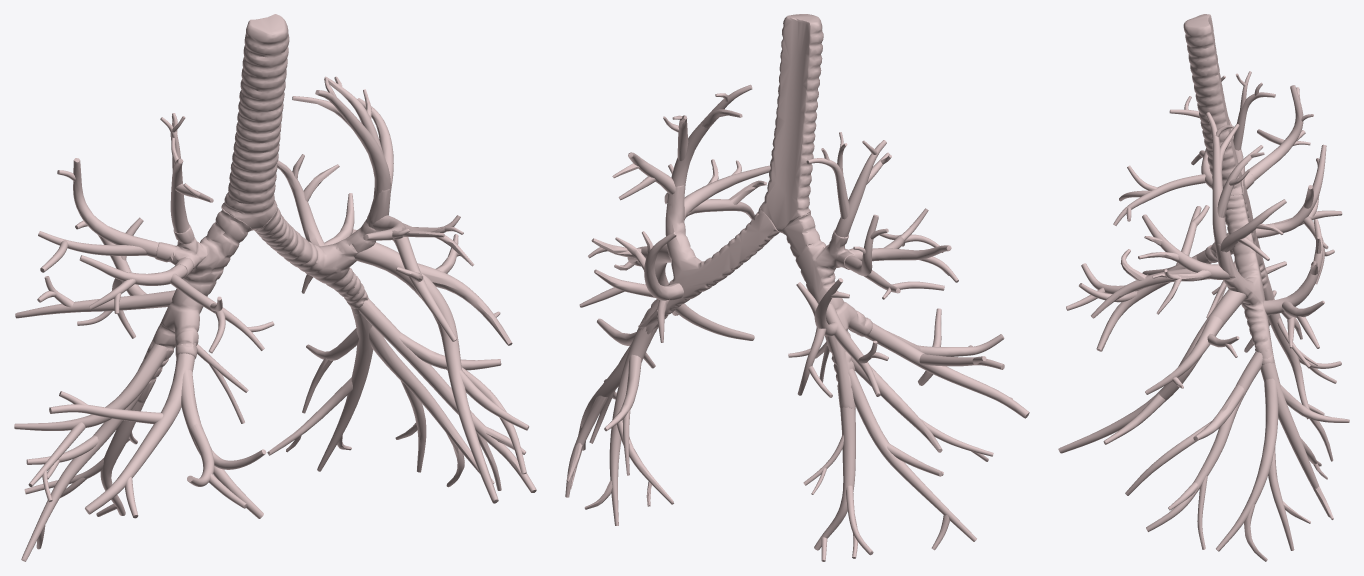
Rendered from respiratory.glb.
3 views of the same model, side by side, from view 1: azimuth 30°, elevation 25°; view 2: azimuth 150°, elevation 25°; view 3: azimuth 270°, elevation 25° (orthographic). The views are drawn at different scales.
Visible parts, largest first — view 1: trachea, right_main_bronchus_proper, left_main_bronchus, inferior_lingular_bronchial_tree (×2), lateral_segmental_bronchial_tree (×2), left_lateral_basal_segmental_bronchial_tree (×2), left_posterior_basal_segmental_bronchial_tree (×2), right_anterior_basal_segmental_bronchial_tree (×2), left_medial_basal_segmental_bronchial_tree, right_posterior_segmental_bronchial_tree (×2), left_apical_segmental_bronchial_tree (×2), medial_segmental_bronchial_tree (×2) (+10 smaller); view 2: trachea, left_main_bronchus, right_main_bronchus_proper, left_posterior_basal_segmental_bronchial_tree (×3), lateral_segmental_bronchial_tree (×2), right_lateral_basal_segmental_bronchial_tree, left_anterior_segmental_bronchial_tree (×2), right_apical_segmental_bronchial_tree (×2), left_superior_segmental_bronchial_tree (×2), right_superior_segmental_bronchial_tree (×2), right_posterior_basal_segmental_bronchial_tree, left_lateral_basal_segmental_bronchial_tree (×2) (+7 smaller); view 3: trachea, left_main_bronchus, inferior_lingular_bronchial_tree (×2), left_lateral_basal_segmental_bronchial_tree (×2), left_posterior_basal_segmental_bronchial_tree (×2), left_anterior_segmental_bronchial_tree (×2), left_anterior_basal_segmental_bronchial_tree (×3), left_apical_segmental_bronchial_tree (×2), left_medial_basal_segmental_bronchial_tree, left_superior_segmental_bronchial_tree (×2), right_superior_segmental_bronchial_tree (×2), medial_segmental_bronchial_tree (×2) (+8 smaller).
Part boxes in pixels (box(x1,y1,x2,y2)): trachea: box(221, 14, 289, 230); right_main_bronchus_proper: box(138, 207, 252, 402); left_main_bronchus: box(254, 187, 390, 315); inferior_lingular_bronchial_tree (×2): box(352, 242, 529, 503); lateral_segmental_bronchial_tree (×2): box(49, 343, 196, 514); left_lateral_basal_segmental_bronchial_tree (×2): box(369, 326, 494, 483); left_posterior_basal_segmental_bronchial_tree (×2): box(267, 303, 373, 471); right_anterior_basal_segmental_bronchial_tree (×2): box(14, 344, 168, 486); left_medial_basal_segmental_bronchial_tree: box(358, 298, 536, 492); right_posterior_segmental_bronchial_tree (×2): box(38, 158, 175, 257); left_apical_segmental_bronchial_tree (×2): box(315, 76, 390, 228); medial_segmental_bronchial_tree (×2): box(181, 370, 263, 518); trachea: box(760, 14, 823, 232); left_main_bronchus: box(638, 185, 779, 334); right_main_bronchus_proper: box(782, 211, 872, 409); left_posterior_basal_segmental_bronchial_tree (×3): box(604, 314, 673, 525); lateral_segmental_bronchial_tree (×2): box(865, 318, 1029, 418); right_lateral_basal_segmental_bronchial_tree: box(848, 368, 976, 541); left_anterior_segmental_bronchial_tree (×2): box(684, 165, 770, 220); right_apical_segmental_bronchial_tree (×2): box(806, 140, 886, 237); left_superior_segmental_bronchial_tree (×2): box(594, 232, 683, 300); right_superior_segmental_bronchial_tree (×2): box(814, 278, 880, 396); right_posterior_basal_segmental_bronchial_tree: box(814, 407, 855, 550); left_lateral_basal_segmental_bronchial_tree (×2): box(565, 343, 631, 497); trachea: box(1183, 14, 1244, 199); left_main_bronchus: box(1214, 194, 1274, 364); inferior_lingular_bronchial_tree (×2): box(1058, 289, 1246, 453); left_lateral_basal_segmental_bronchial_tree (×2): box(1216, 378, 1294, 551); left_posterior_basal_segmental_bronchial_tree (×2): box(1260, 348, 1349, 517); left_anterior_segmental_bronchial_tree (×2): box(1091, 214, 1230, 318); left_anterior_basal_segmental_bronchial_tree (×3): box(1125, 385, 1244, 549); left_apical_segmental_bronchial_tree (×2): box(1206, 112, 1263, 279); left_medial_basal_segmental_bronchial_tree: box(1146, 350, 1262, 531); left_superior_segmental_bronchial_tree (×2): box(1263, 219, 1324, 317); right_superior_segmental_bronchial_tree (×2): box(1255, 144, 1342, 238); medial_segmental_bronchial_tree (×2): box(1081, 255, 1197, 351).
Size of the model in its own units: 258 by 291 by 170.
